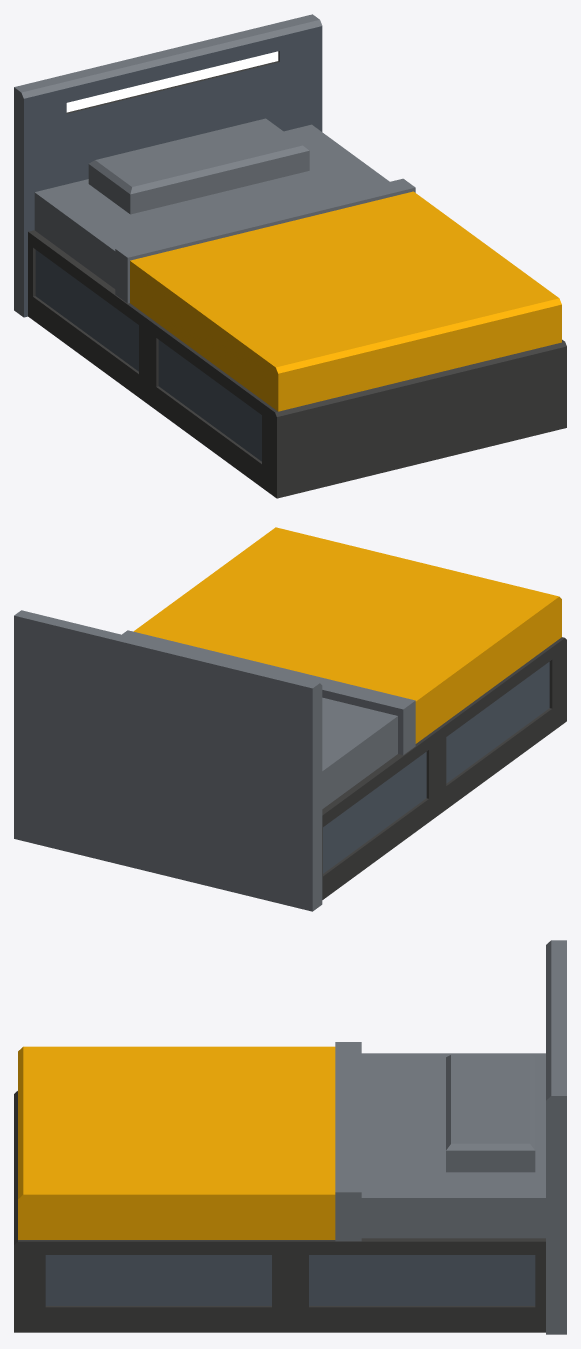
Rendered from bed.glb.
3 renders of one model, top to bottom at view 1: azimuth 30°, elevation 25°; view 2: azimuth 150°, elevation 25°; view 3: azimuth 270°, elevation 25°, orthographic. The views are drawn at different scales.
Visible parts, largest first — view 1: bed; view 2: bed; view 3: bed.
Boxes of the visible parts, left/top/right/bottom form: bed: left=14, top=14, right=566, bottom=498; bed: left=14, top=527, right=566, bottom=911; bed: left=14, top=940, right=566, bottom=1334.
Size of the model in its own units: 1.4 by 1 by 2.1.
